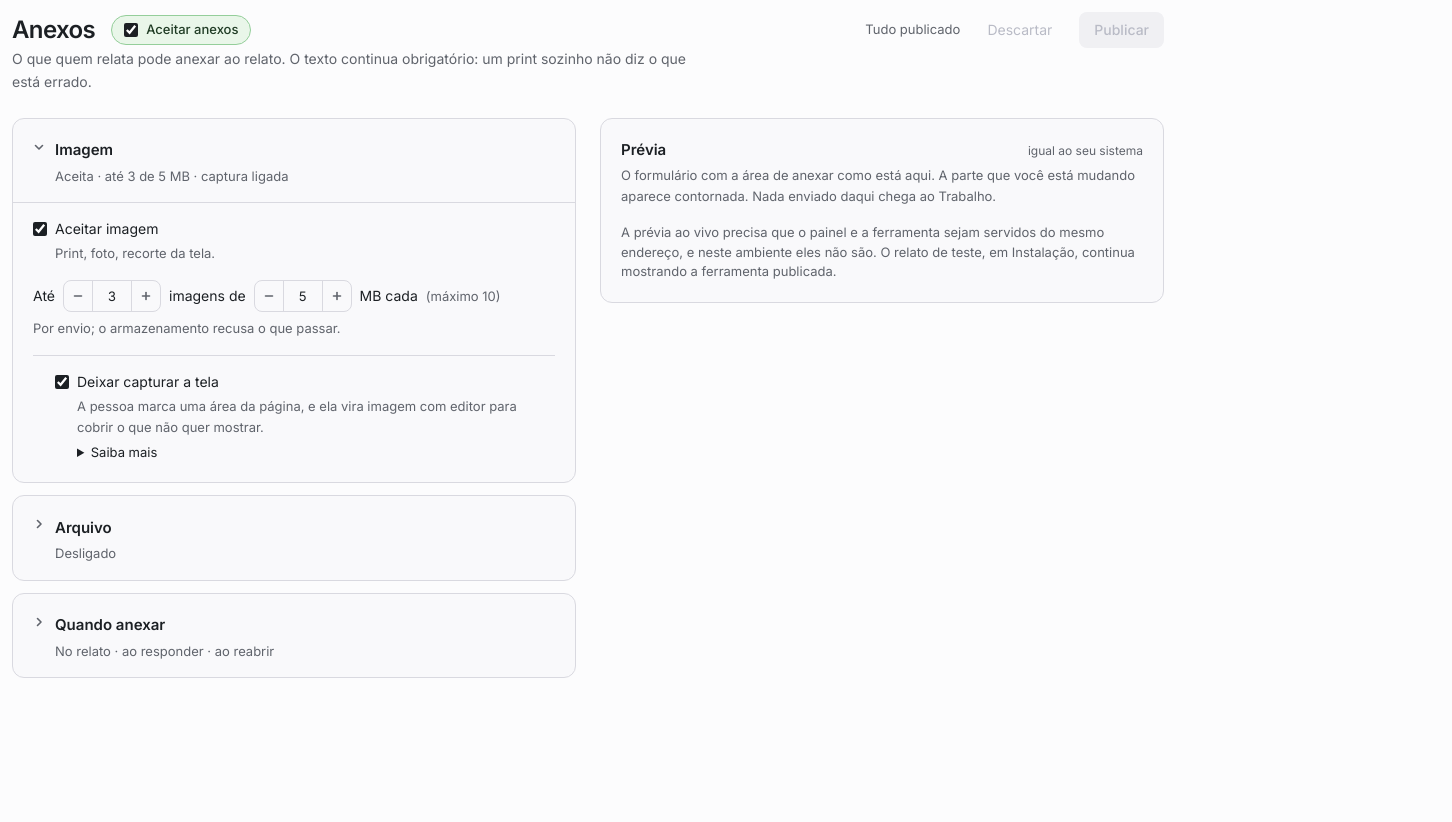
Test: MediaScreen › a chave geral fica ao lado do título, e desligada diz o que acontece
Expected: the header "Aceitar anexos" is shown, top-left (12, 12), bottom-right (1164, 48)
Expected: the text "Desligado: o formulário não mostra anexo" is not shown
What coordinates should you click on to do the following:
click the checkbox labelled "Aceitar anexos"
I would click on:
 (131, 30)
Its box is top-left (124, 23), bottom-right (138, 37).
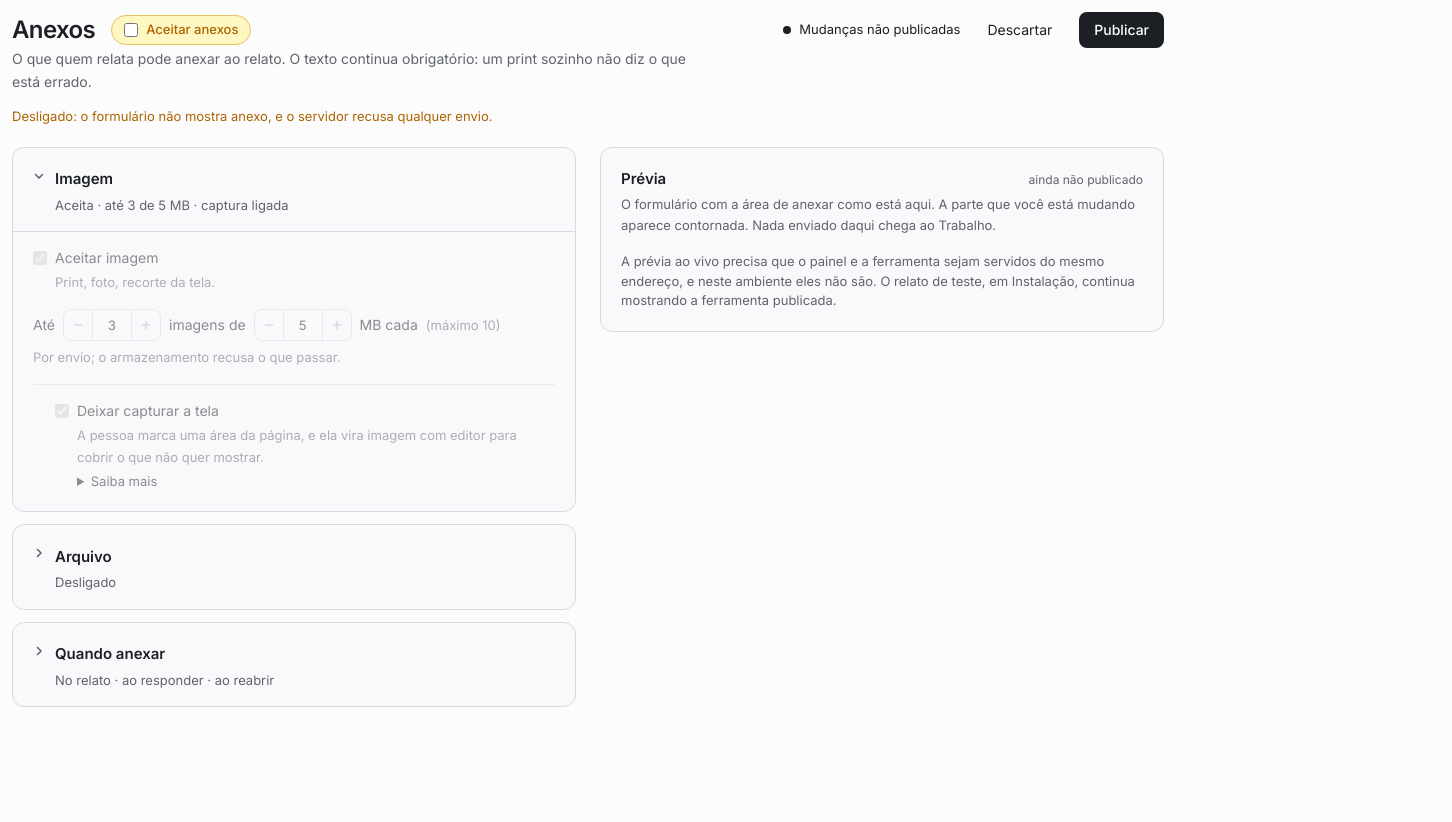
Result: the text "Desligado: o formulário não mostra anexo, e o servidor recusa qualquer envio." is shown at top-left (12, 108), bottom-right (492, 124)
